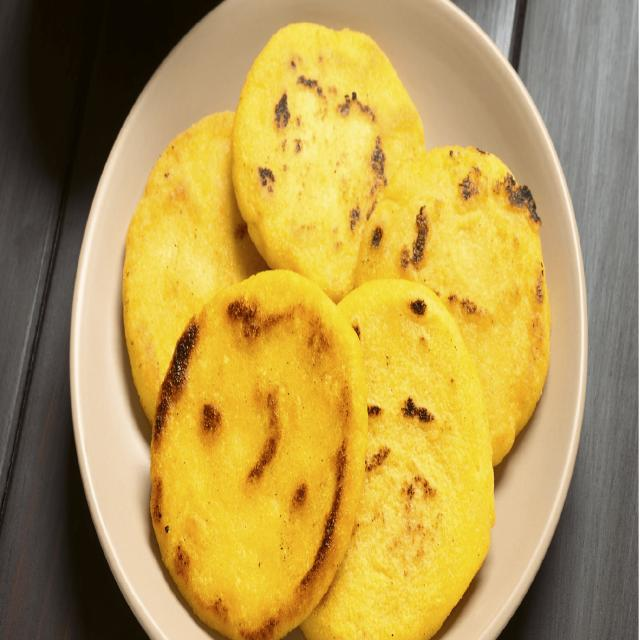arepa: (144, 282, 366, 631)
